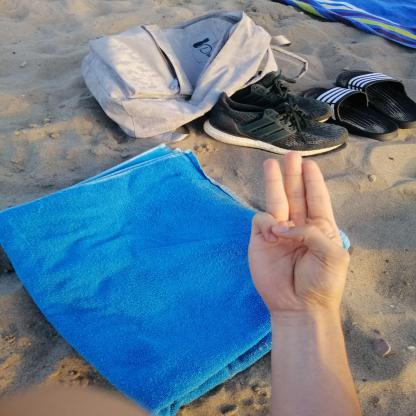THA: (232, 142, 363, 322)
